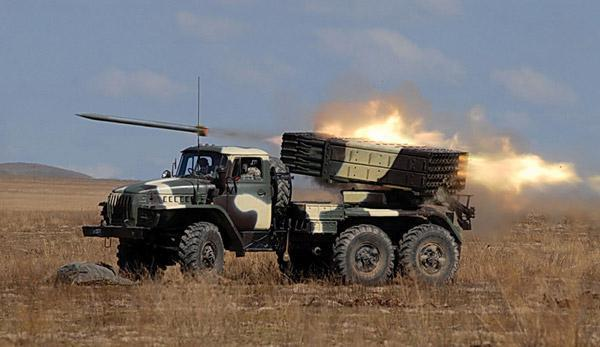rszo: (85, 86, 481, 310)
